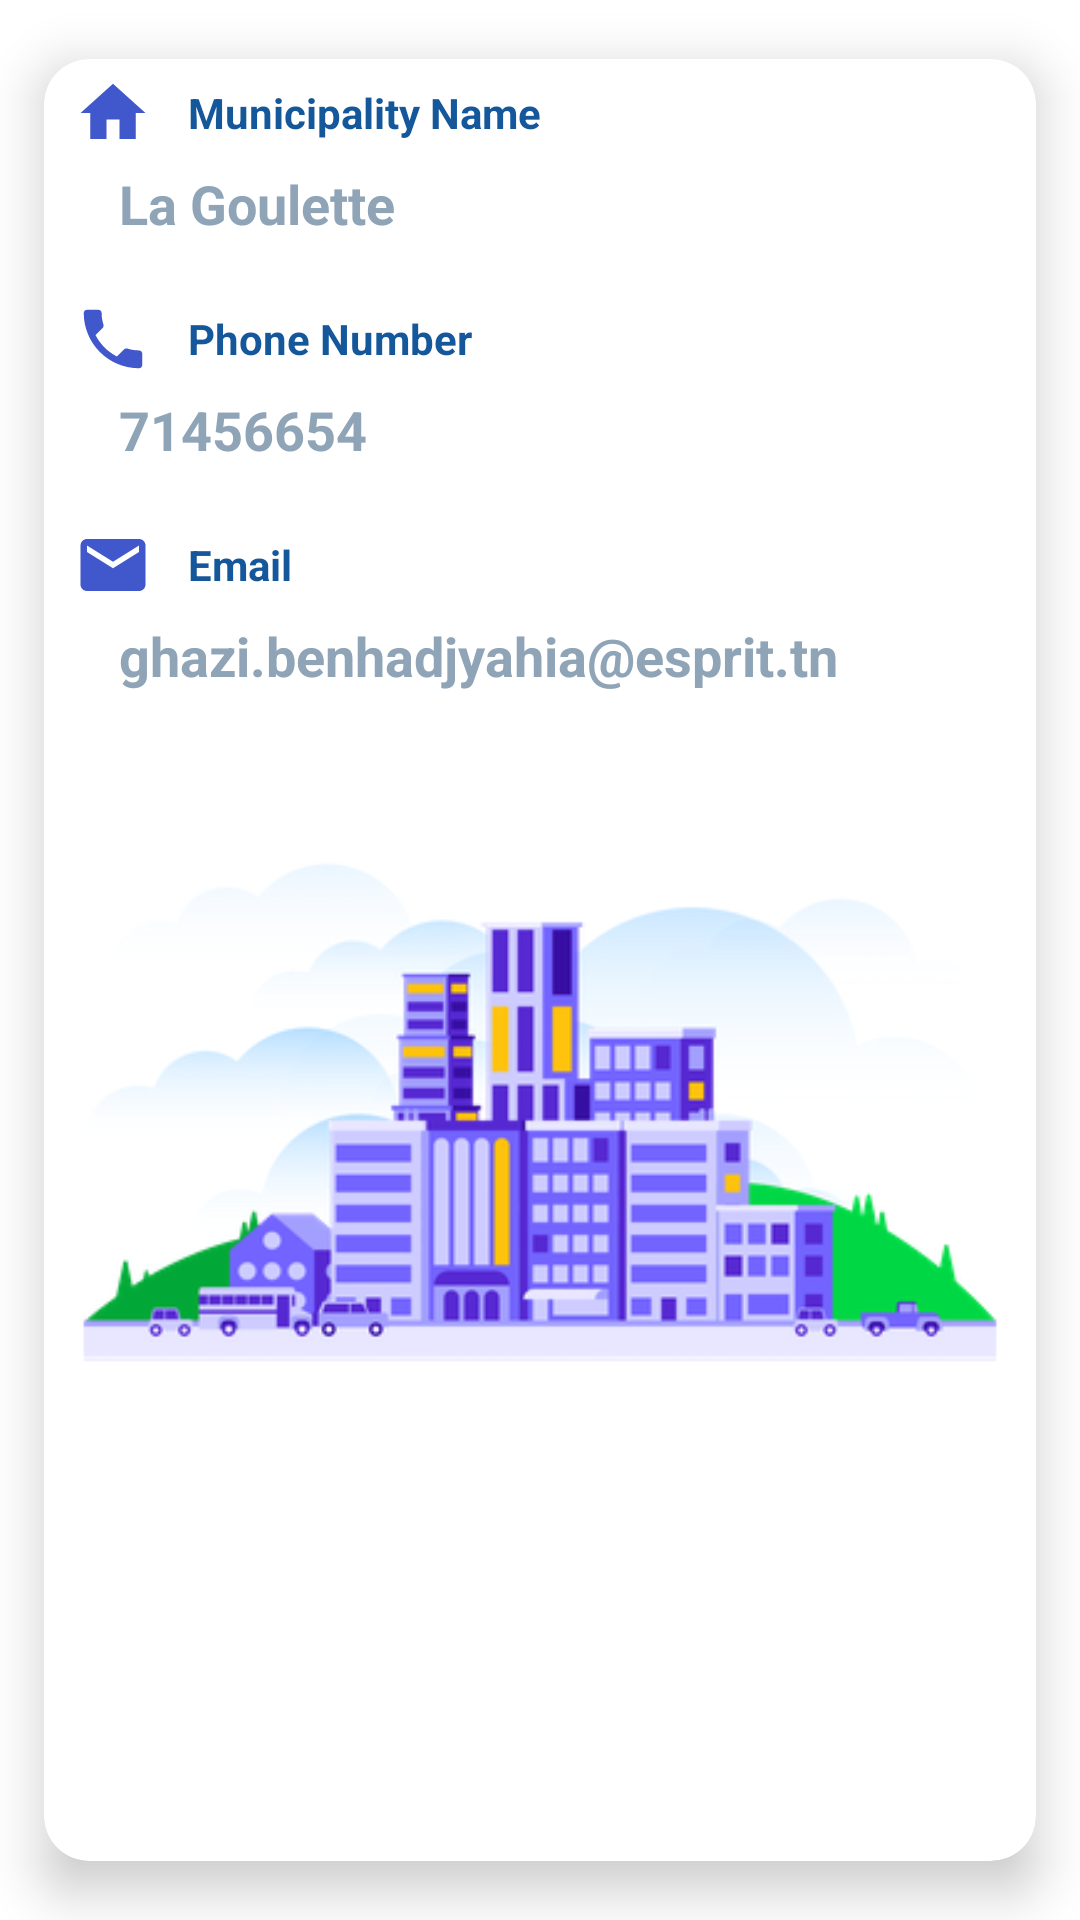

Named icons in this screenshot (1080×1920) and their bounding boxes, (x1, y1, x2, y2):
home: (81, 84, 145, 139)
local phone: (83, 309, 143, 369)
